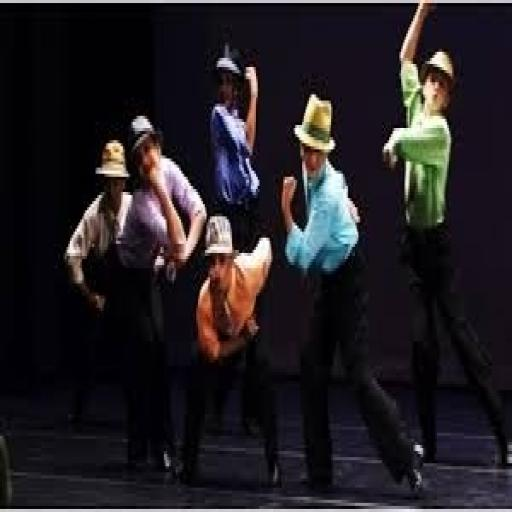dancing: (278, 91, 428, 503), (380, 0, 510, 475)
